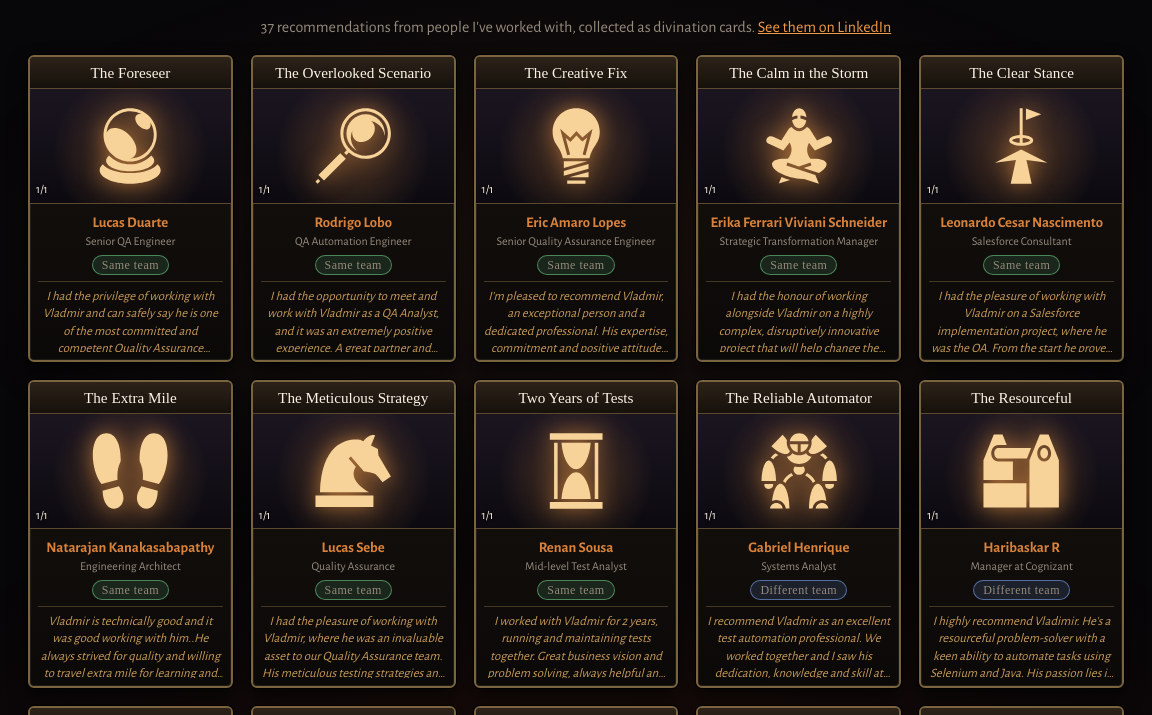
Test: <DivinationCards /> › an English quote is shown as written, with no translation note
Click the button that starts with "The Extra Mile" at (130, 534), box [28,380,233,688]
(page scrolled)
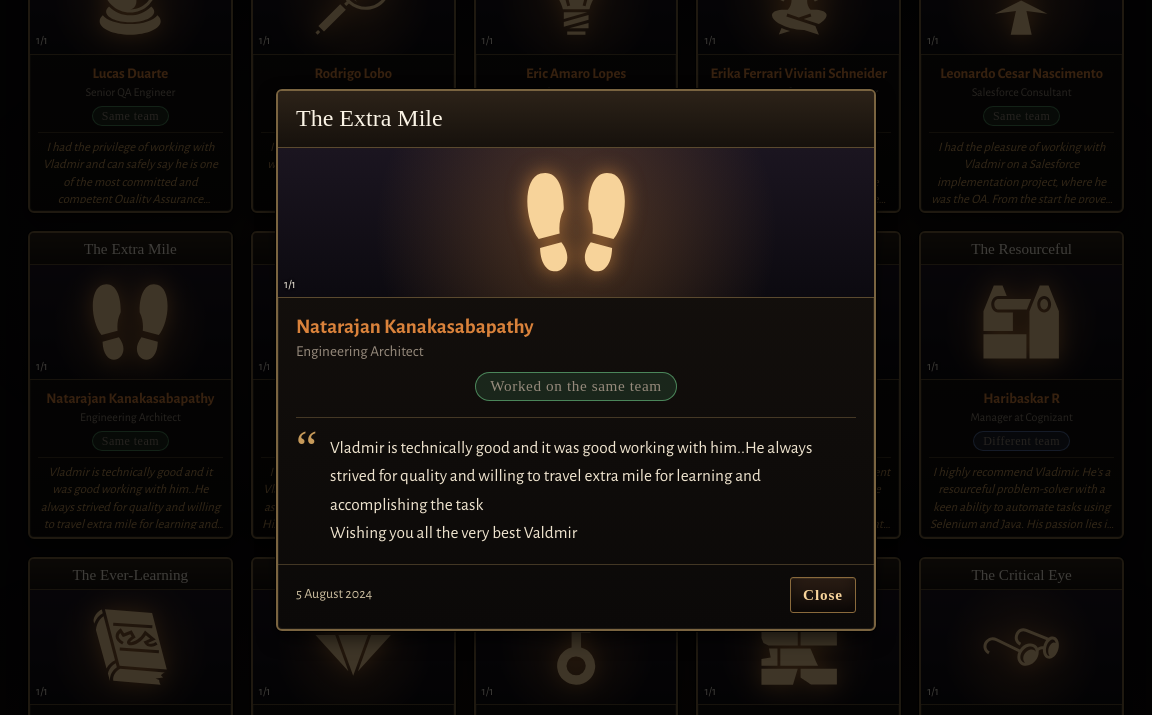
Expected: the dialog does not show "Translated from", [276,89,876,631]
Expected: the text "Vladmir is technically good and it was good working with him..He always strived for quality and willing to travel extra " is shown, [330,439,812,541]
